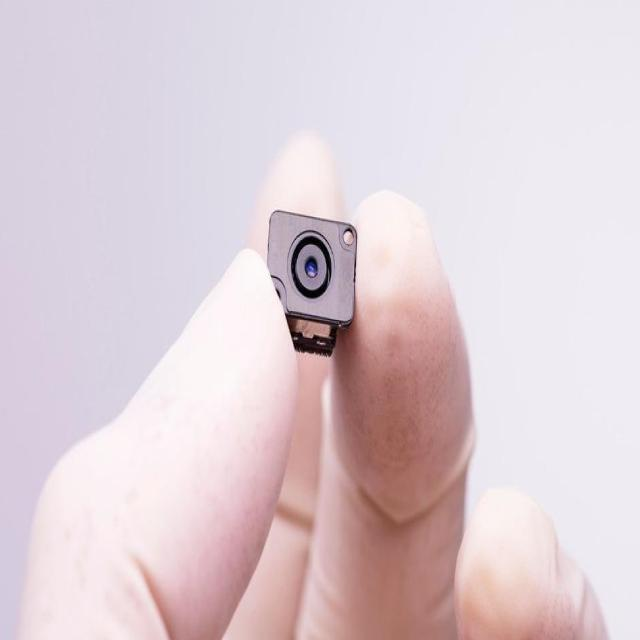hidden camera: (289, 225, 330, 301)
